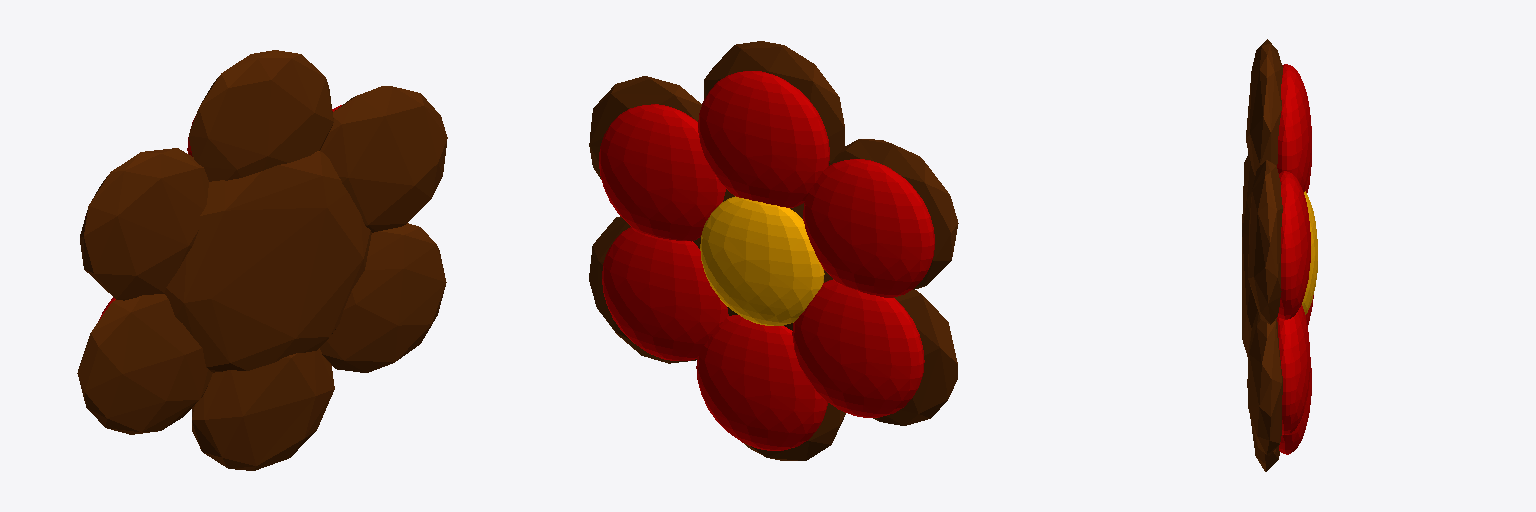
The model's file is Cookie.obj.
3 views of the same model, side by side, from view 1: azimuth 30°, elevation 25°; view 2: azimuth 150°, elevation 25°; view 3: azimuth 270°, elevation 25° (orthographic).
Visible parts, largest first — view 1: 球.014; view 2: 球.014, 球.011, 球.006, 球.010, 球.007, 球.009, 球.005, 球.008; view 3: 球.014, 球.007, 球.006, 球.008, 球.005, 球.009.
Boxes of the visible parts, box(x1,y1,x2,y2) form: 球.014: box(77, 50, 447, 470); 球.014: box(589, 41, 958, 460); 球.011: box(803, 159, 934, 297); 球.006: box(698, 71, 829, 207); 球.010: box(792, 279, 924, 417); 球.007: box(599, 104, 725, 241); 球.009: box(696, 315, 827, 450); 球.005: box(700, 196, 824, 325); 球.008: box(602, 227, 728, 360); 球.014: box(1242, 39, 1282, 471); 球.007: box(1278, 171, 1310, 319); 球.006: box(1277, 64, 1311, 191); 球.008: box(1277, 305, 1310, 434); 球.005: box(1302, 191, 1317, 314); 球.009: box(1279, 357, 1311, 454).
Bounding box in the file's own units: 1.21 × 1.31 × 0.2189.